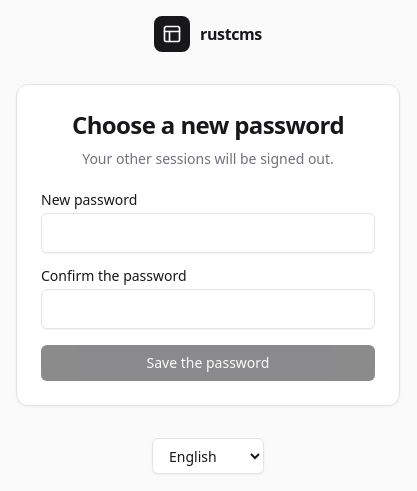
Test: after a lost answer, says the password may already work instead of offering a retry
In the password field labelled "New password": (208, 233) top-left (41, 213), bottom-right (375, 253), type "a brand new passphrase"
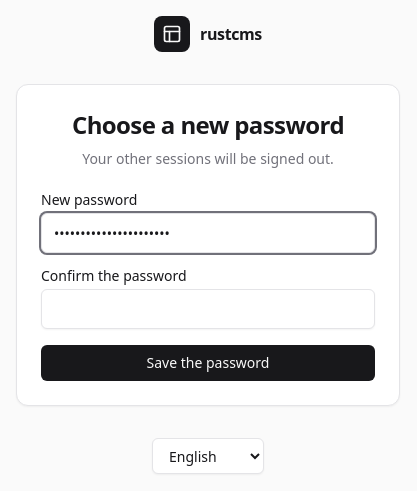
In the password field labelled "Confirm the password": (208, 309) top-left (41, 289), bottom-right (375, 329), type "a brand new passphrase"
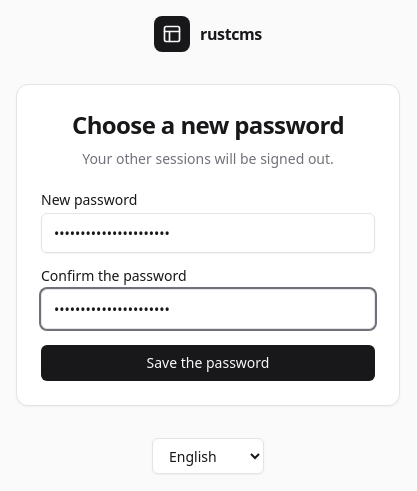
Click the button "Save the password": (208, 363) top-left (41, 345), bottom-right (375, 381)
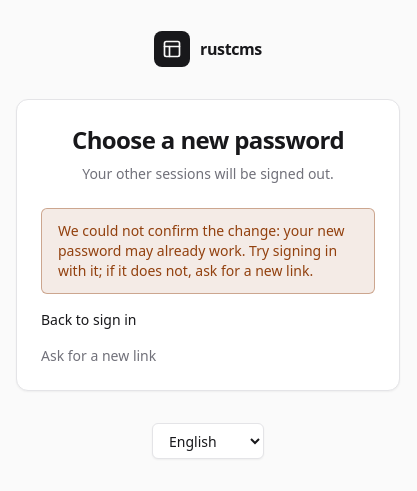
Expected: the text "your new password may already work" is shown, top-left (58, 221), bottom-right (345, 280)
Expected: the button "Save the password" is gone
